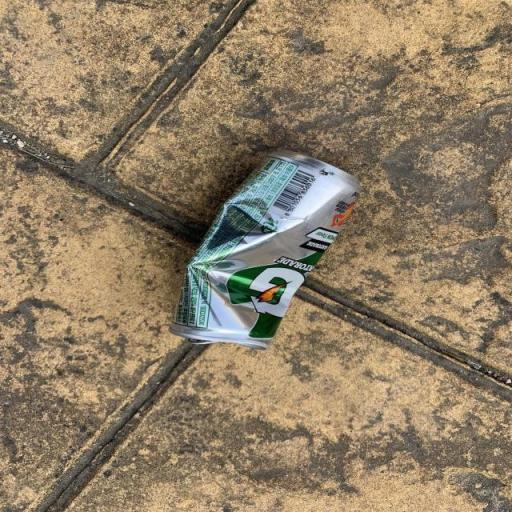metal: (159, 130, 378, 378)
